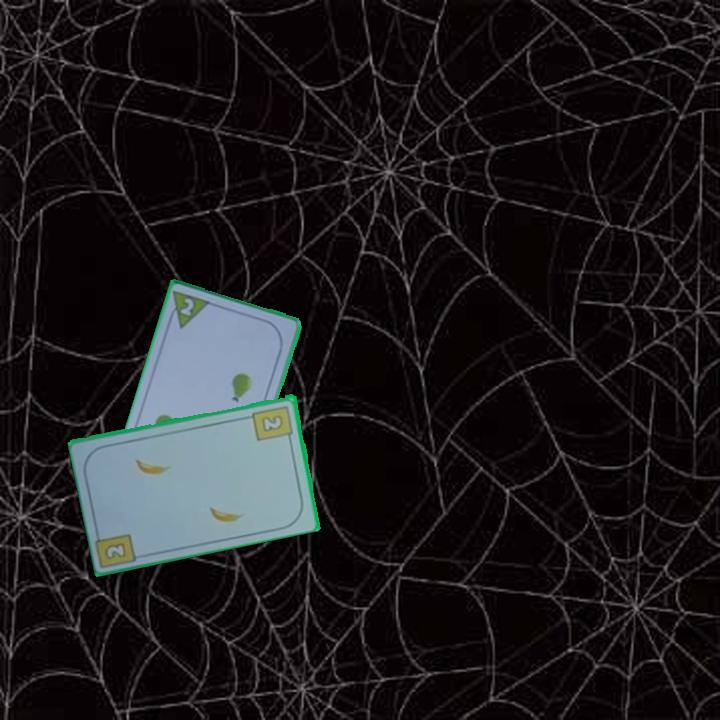2b: (249, 402, 296, 444), (103, 541, 127, 560)
2p: (177, 294, 197, 320)
